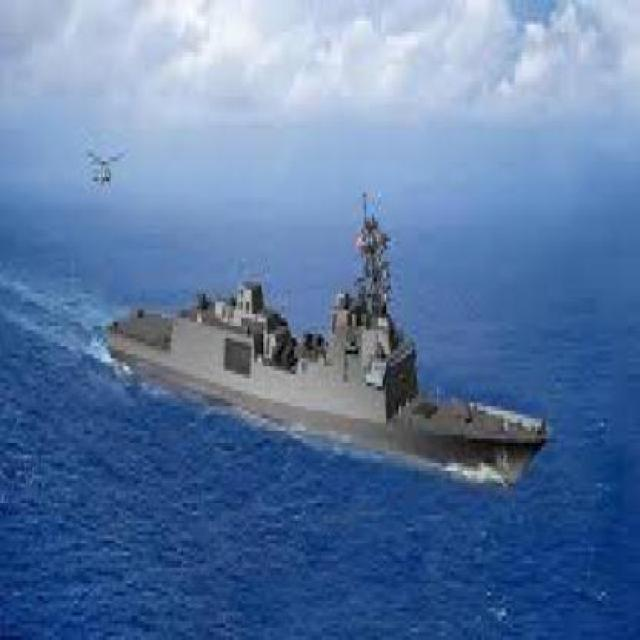warship2: (88, 193, 565, 491)
